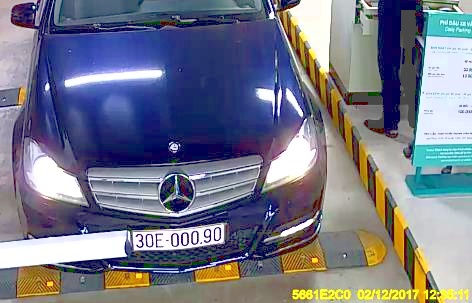plate: (131, 222, 231, 249)
